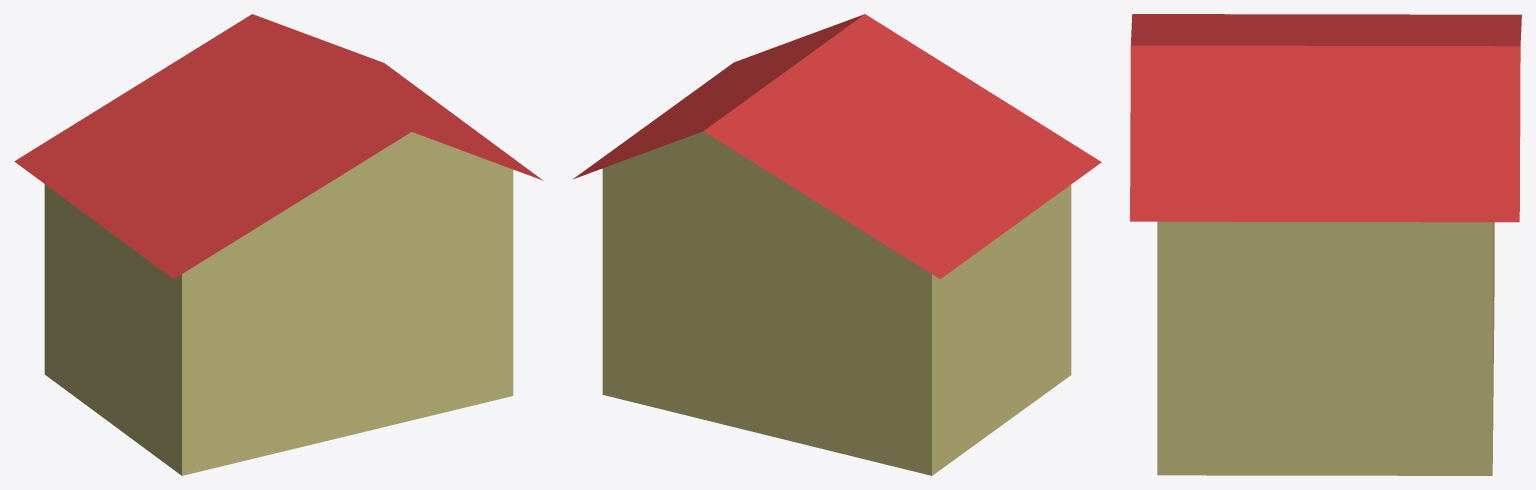
3 renders of one model, left to right at view 1: azimuth 30°, elevation 25°; view 2: azimuth 150°, elevation 25°; view 3: azimuth 270°, elevation 25°, orthographic. The views are drawn at different scales.
Bounding box in the file's own units: 14.31 × 10.81 × 11.05.
